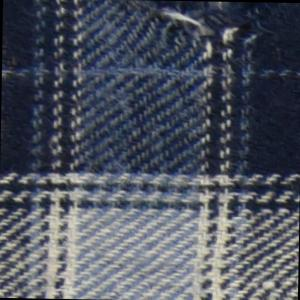Damage: (110, 1, 281, 64)
